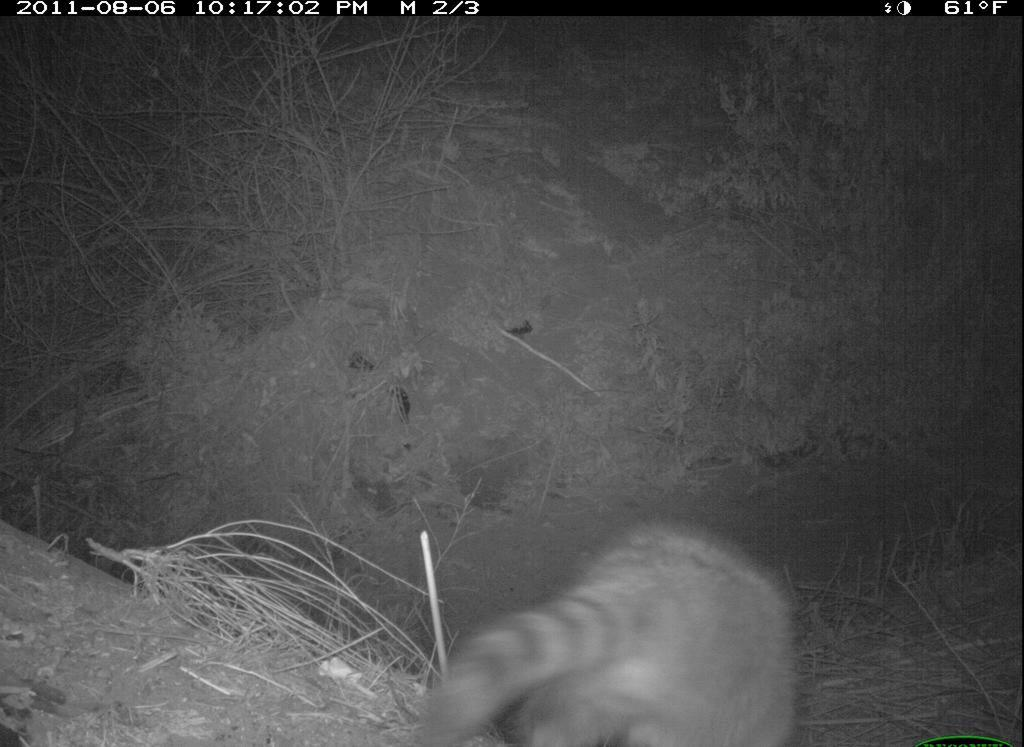raccoon: (442, 521, 836, 747)
